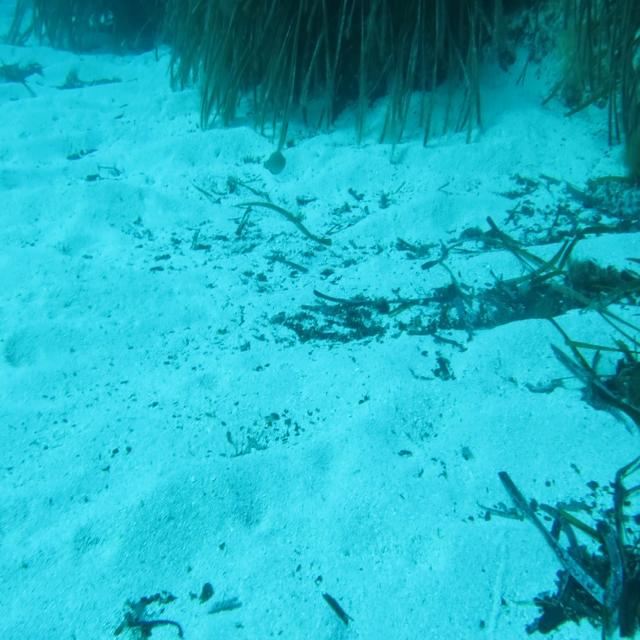SA: (261, 145, 288, 181)
vegetation: (192, 1, 530, 131), (524, 481, 640, 638), (474, 256, 640, 326), (292, 289, 474, 344), (533, 0, 639, 94), (30, 0, 189, 43), (572, 346, 640, 424)
